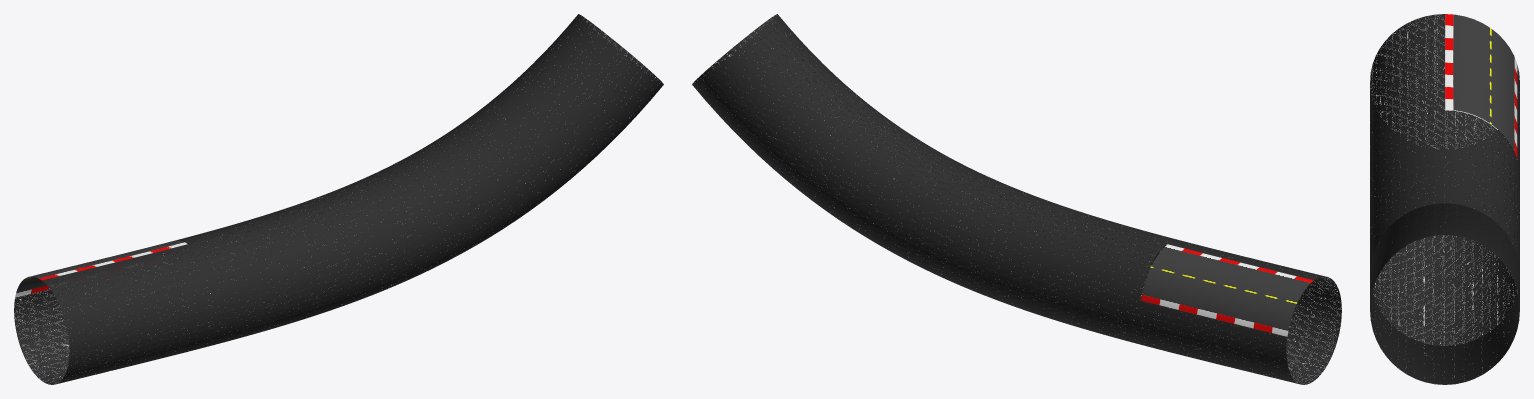
The model's file is SneekyTube.fbx.
The picture shows the model from 3 angles, left to right: view 1: azimuth 30°, elevation 25°; view 2: azimuth 150°, elevation 25°; view 3: azimuth 270°, elevation 25°; orthographic projection. The views are drawn at different scales.
Visible parts, largest first — view 1: NurbsPath; view 2: NurbsPath; view 3: NurbsPath.
Boxes of the visible parts, x1,y1,x2,y2 form: NurbsPath: (14,14,663,384); NurbsPath: (692,14,1341,384); NurbsPath: (1370,14,1519,384).
Bounding box in the file's own units: 423 × 150 × 66.37.
Materials: 1 (1 with a texture image).
